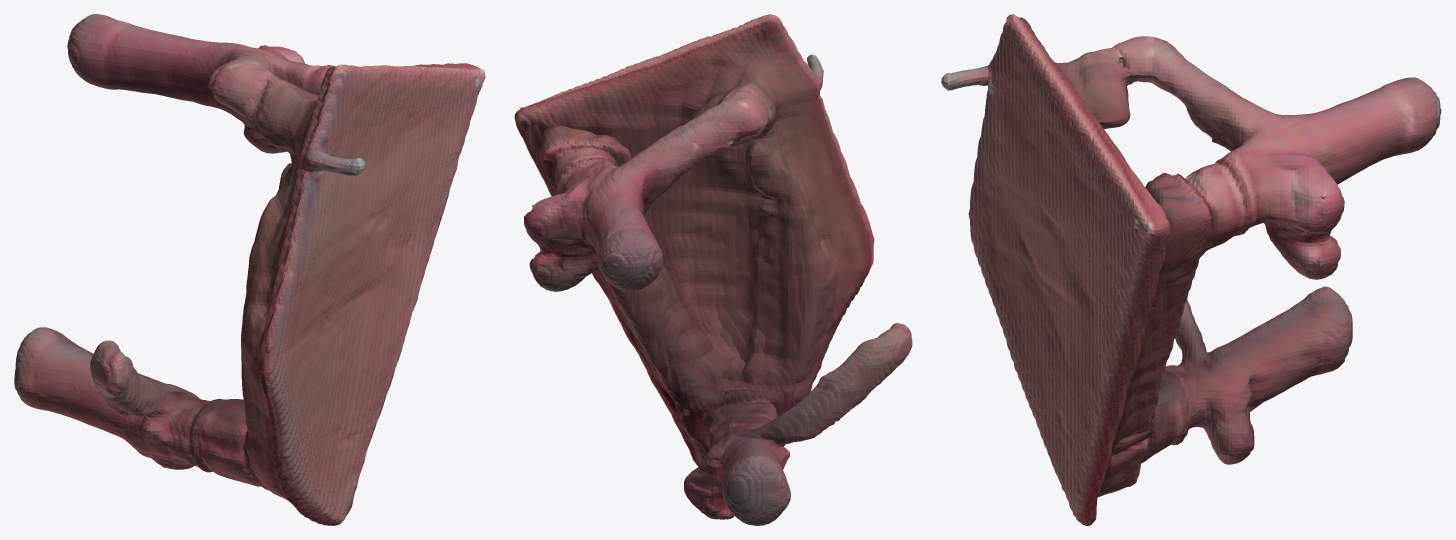
3 renders of one model, left to right at view 1: azimuth 30°, elevation 25°; view 2: azimuth 150°, elevation 25°; view 3: azimuth 270°, elevation 25°, orthographic. The views are drawn at different scales.
Parts seen in each view (by area): view 1: world; view 2: world; view 3: world.
Part boxes in pixels (bbox=[...]): world: bbox=[14, 14, 485, 525]; world: bbox=[514, 14, 912, 525]; world: bbox=[941, 14, 1441, 525].
Bounding box in the file's own units: 0.8869 × 1.02 × 0.9354.
